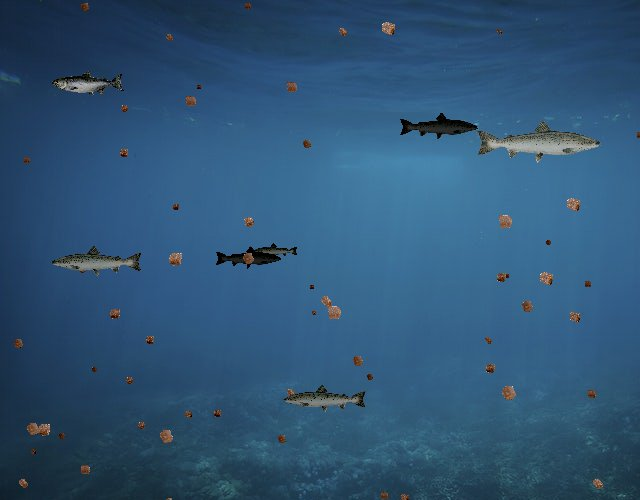Fish: (474, 118, 603, 164), (51, 245, 145, 278), (282, 383, 368, 414), (399, 111, 480, 140), (53, 71, 126, 97), (214, 245, 282, 270), (253, 242, 300, 259)
Pellet: (161, 245, 189, 273), (314, 289, 338, 313), (236, 246, 260, 270), (237, 210, 260, 233), (8, 333, 29, 354), (161, 30, 178, 47), (27, 446, 39, 458)
